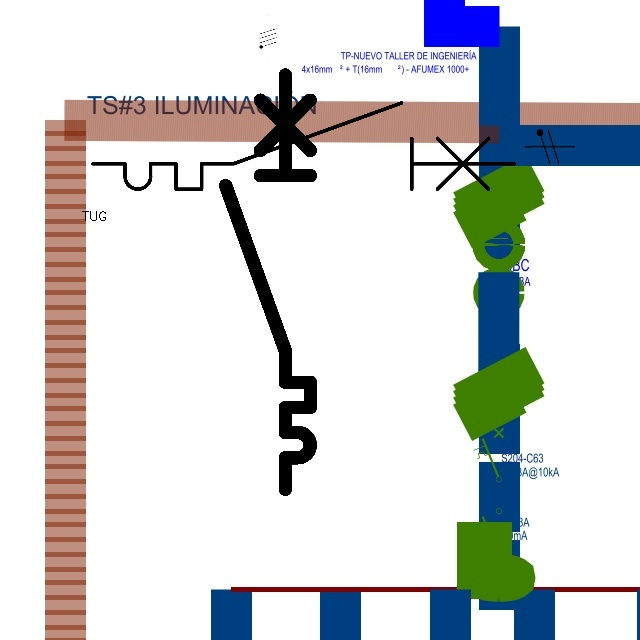interruptor_termomagnetico: (82, 92, 524, 200), (215, 64, 321, 499)
